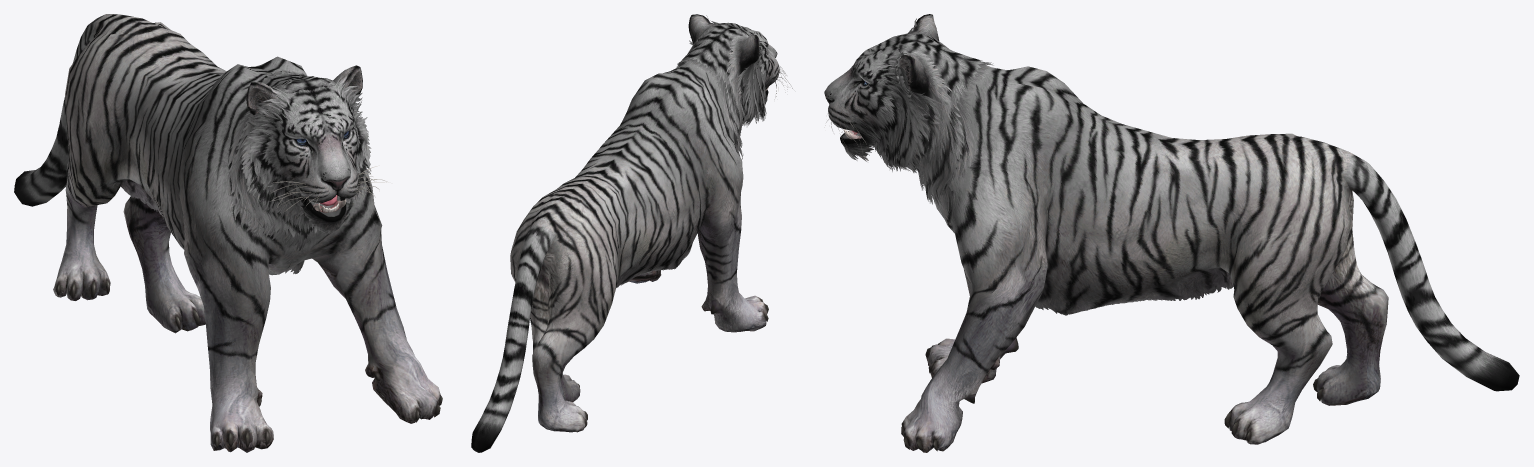
File: white tiger.fbx
3 renders of one model, left to right at view 1: azimuth 30°, elevation 25°; view 2: azimuth 150°, elevation 25°; view 3: azimuth 270°, elevation 25°, orthographic. The views are drawn at different scales.
Visible parts, largest first — view 1: Model001_25_tiger_0.5_0_0; view 2: Model001_25_tiger_0.5_0_0; view 3: Model001_25_tiger_0.5_0_0.
Part boxes in pixels (x1,y1,x2,y2): Model001_25_tiger_0.5_0_0: (14,14,442,452); Model001_25_tiger_0.5_0_0: (471,14,792,452); Model001_25_tiger_0.5_0_0: (824,14,1519,452).
Size of the model in its own units: 73.09 by 130 by 216.
Materials: 1 (1 with a texture image).
